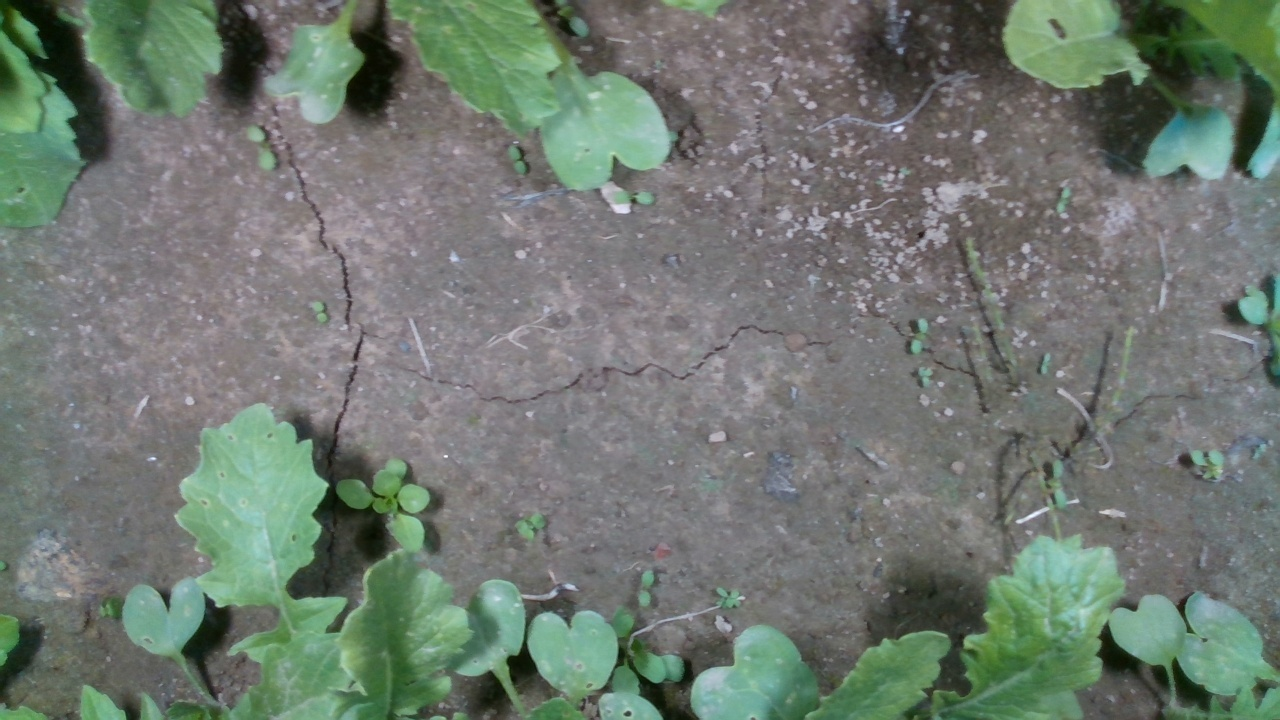weed: (246, 126, 278, 173), (510, 509, 548, 542), (610, 187, 659, 206), (635, 567, 656, 608), (908, 315, 928, 354), (506, 143, 526, 176), (916, 364, 936, 392), (1055, 183, 1072, 215), (310, 299, 328, 324), (1039, 350, 1053, 375)
